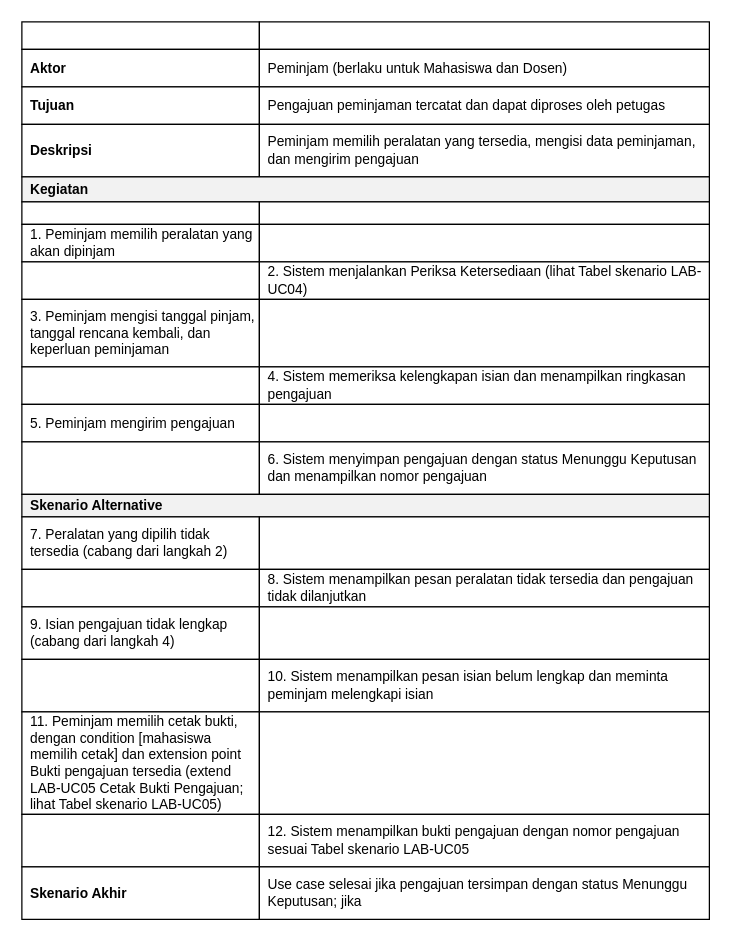
Some shapes in this 731 by 941 pixel diagram are drawn without their labels. The shapes that lost their labels are listed below. From the top down, each one's centre as x and y in pixels, then its label:
point 140,35: Nama use case
point 483,35: LAB-UC03 Ajukan Peminjaman
point 140,212: Skenario Normal
